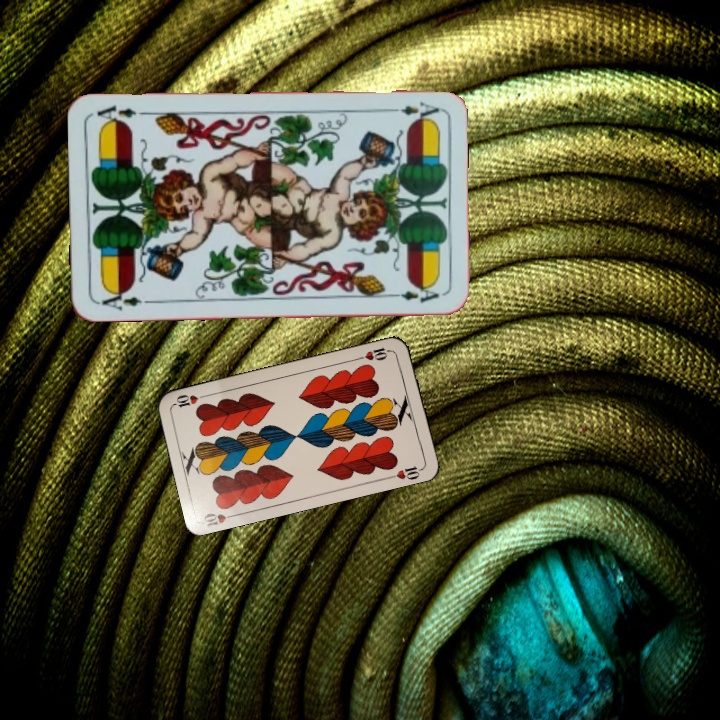EA: (382, 97, 441, 122), (95, 286, 144, 313)
H10: (354, 343, 395, 363), (200, 509, 240, 529)
